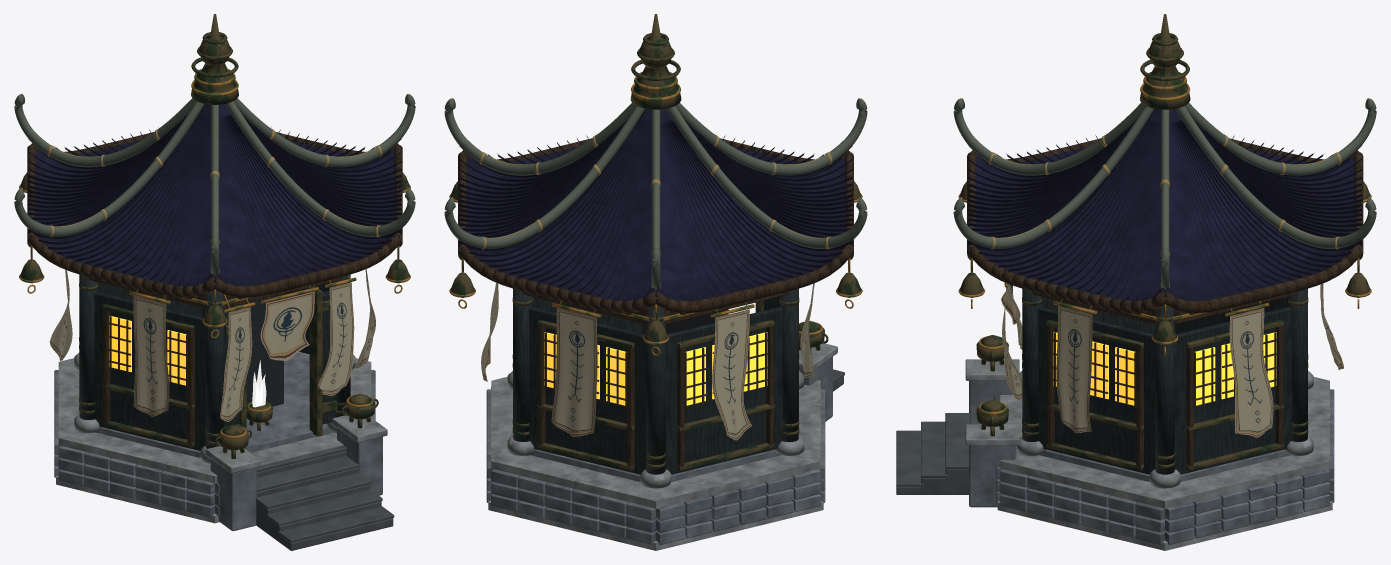
Rendered from revival.glb.
3 renders of one model, left to right at view 1: azimuth 30°, elevation 25°; view 2: azimuth 150°, elevation 25°; view 3: azimuth 270°, elevation 25°, orthographic. The views are drawn at different scales.
Visible parts, largest first — view 1: revival | Roof revival ceramic 0, revival | Charcoal lacquer.002, revival | Continuous aged bronze, revival | Basalt 02.002, revival | Smoked oak.002, revival | Worn cut edges.002, revival | Dark oxidised bronze.002, revival | Roof revival ceramic 2, revival | Roof revival ceramic 1, SoulBanner_07, SoulBanner_00, SoulBanner_02 (+16 smaller); view 2: revival | Roof revival ceramic 0, revival | Charcoal lacquer.002, revival | Smoked oak.002, revival | Worn cut edges.002, revival | Continuous aged bronze, revival | Roof revival ceramic 2, revival | Roof revival ceramic 1, revival | Dark oxidised bronze.002, SoulBanner_05, revival | Basalt 02.002, revival | Basalt 01.002, SoulBanner_06 (+9 smaller); view 3: revival | Roof revival ceramic 0, revival | Charcoal lacquer.002, revival | Smoked oak.002, revival | Worn cut edges.002, revival | Continuous aged bronze, revival | Dark oxidised bronze.002, revival | Roof revival ceramic 2, revival | Roof revival ceramic 1, revival | Basalt 02.002, SoulBanner_04, revival | Basalt 00.002, SoulBanner_03 (+10 smaller).
Boxes of the visible parts, left/top/right/bottom form: revival | Roof revival ceramic 0: left=28, top=104, right=401, bottom=286; revival | Charcoal lacquer.002: left=79, top=274, right=350, bottom=450; revival | Continuous aged bronze: left=14, top=94, right=415, bottom=276; revival | Basalt 02.002: left=54, top=353, right=382, bottom=531; revival | Smoked oak.002: left=27, top=132, right=402, bottom=448; revival | Worn cut edges.002: left=56, top=352, right=387, bottom=523; revival | Dark oxidised bronze.002: left=20, top=14, right=409, bottom=458; revival | Roof revival ceramic 2: left=28, top=114, right=401, bottom=285; revival | Roof revival ceramic 1: left=28, top=113, right=401, bottom=285; SoulBanner_07: left=133, top=296, right=169, bottom=416; SoulBanner_00: left=260, top=291, right=314, bottom=361; SoulBanner_02: left=318, top=282, right=354, bottom=396; revival | Roof revival ceramic 0: left=459, top=109, right=852, bottom=300; revival | Charcoal lacquer.002: left=513, top=288, right=798, bottom=474; revival | Smoked oak.002: left=458, top=138, right=853, bottom=471; revival | Worn cut edges.002: left=488, top=343, right=837, bottom=550; revival | Continuous aged bronze: left=444, top=98, right=867, bottom=290; revival | Roof revival ceramic 2: left=459, top=120, right=852, bottom=299; revival | Roof revival ceramic 1: left=459, top=120, right=852, bottom=299; revival | Dark oxidised bronze.002: left=450, top=14, right=861, bottom=470; SoulBanner_05: left=551, top=308, right=597, bottom=436; revival | Basalt 02.002: left=486, top=357, right=832, bottom=531; revival | Basalt 01.002: left=486, top=389, right=825, bottom=544; SoulBanner_06: left=712, top=309, right=751, bottom=440; revival | Roof revival ceramic 0: left=968, top=109, right=1361, bottom=300; revival | Charcoal lacquer.002: left=1022, top=288, right=1307, bottom=474; revival | Smoked oak.002: left=967, top=138, right=1363, bottom=471; revival | Worn cut edges.002: left=965, top=359, right=1332, bottom=550; revival | Continuous aged bronze: left=953, top=98, right=1376, bottom=290; revival | Dark oxidised bronze.002: left=960, top=14, right=1370, bottom=470; revival | Roof revival ceramic 2: left=968, top=119, right=1361, bottom=299; revival | Roof revival ceramic 1: left=968, top=119, right=1361, bottom=300; revival | Basalt 02.002: left=969, top=381, right=1334, bottom=519; SoulBanner_04: left=1229, top=308, right=1273, bottom=437; revival | Basalt 00.002: left=1000, top=469, right=1334, bottom=544; SoulBanner_03: left=1056, top=306, right=1092, bottom=433.
Size of the model in its own units: 5.76 by 5.93 by 5.68.
Materials: 29 (20 with a texture image).
